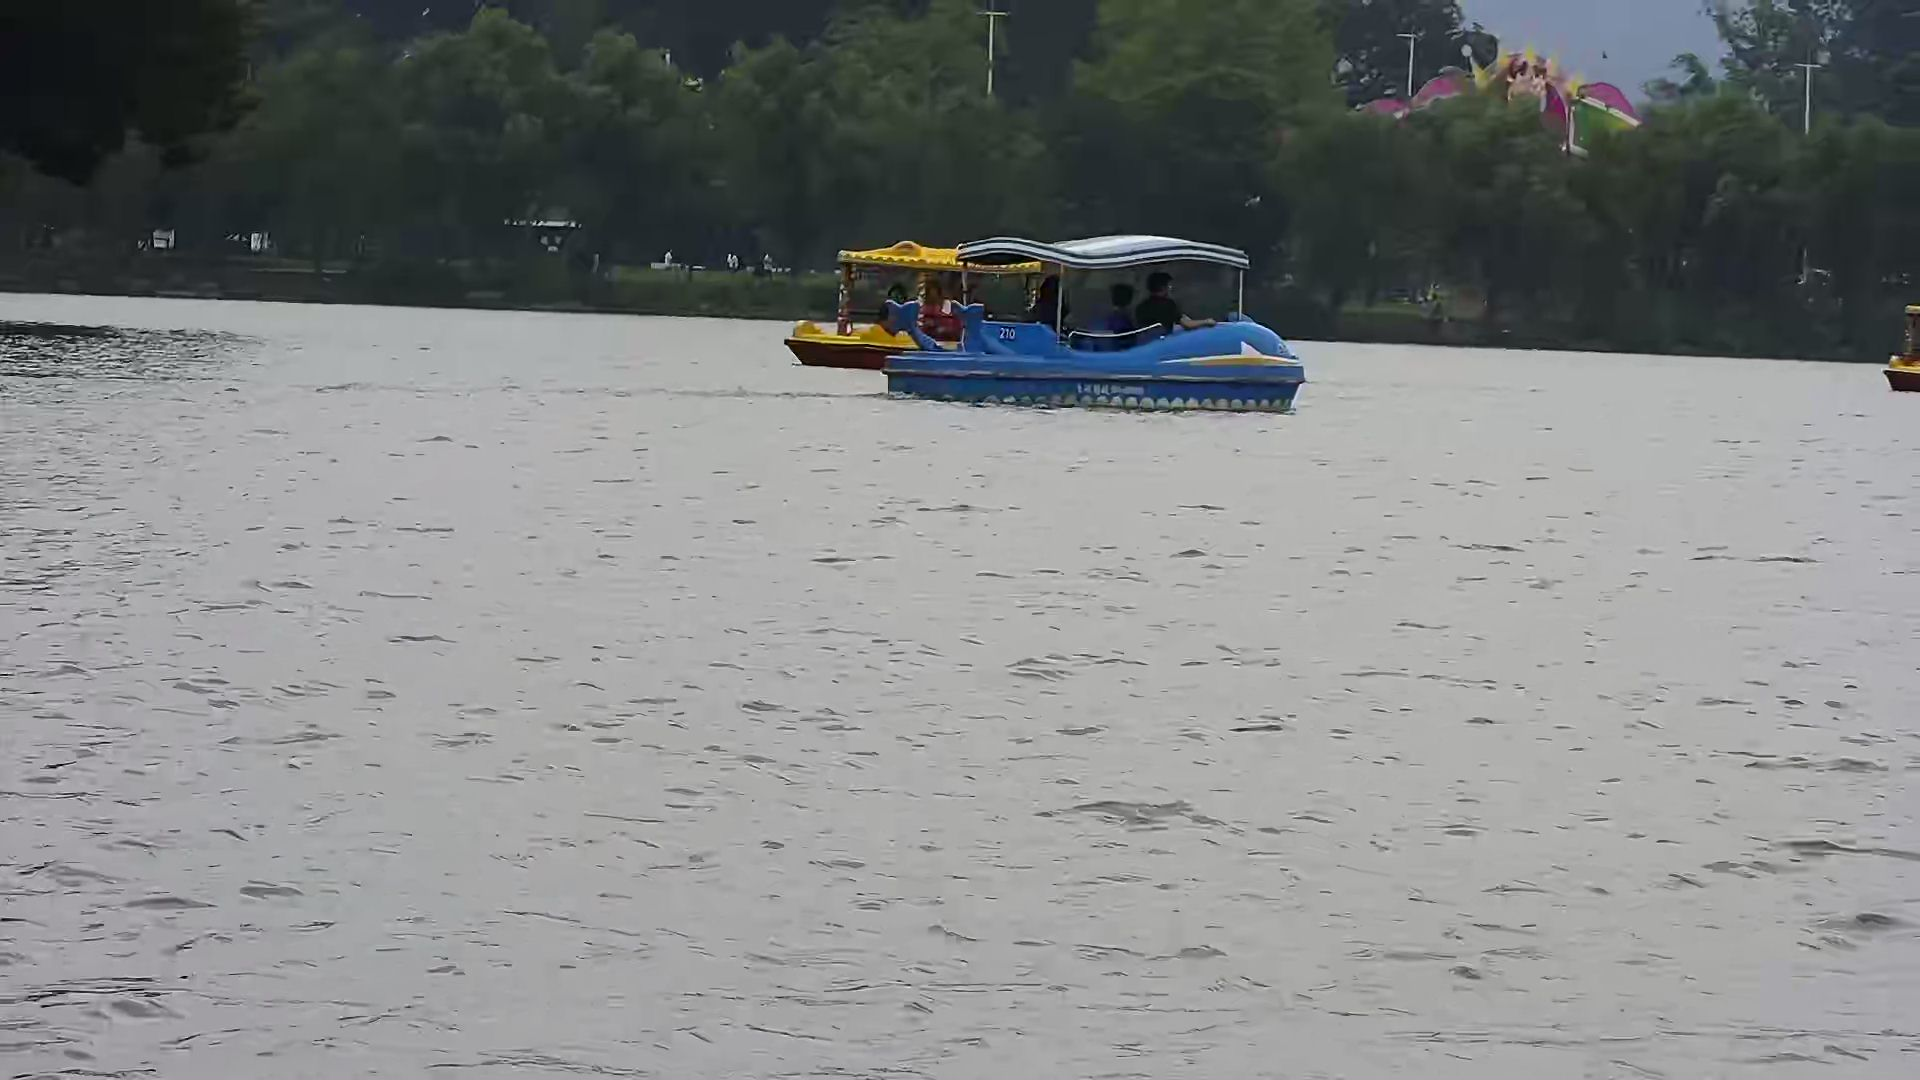boat: (877, 211, 1300, 423), (789, 227, 973, 353)
